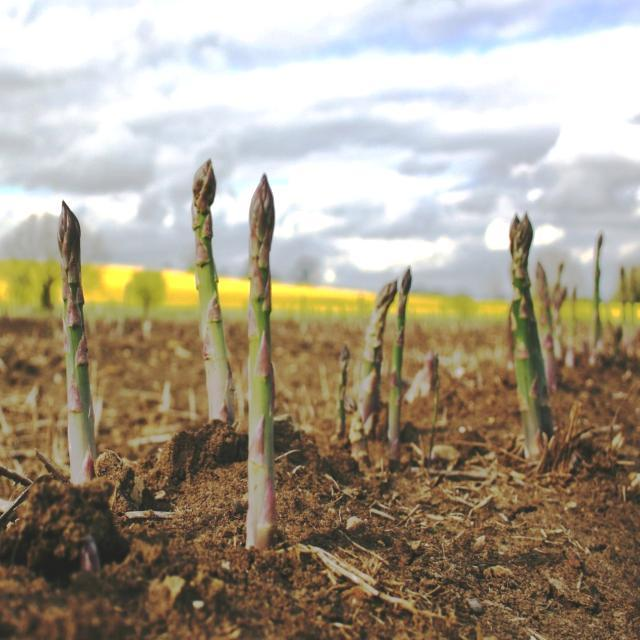aspargus: (246, 175, 277, 552), (58, 203, 97, 488), (191, 161, 228, 424)
